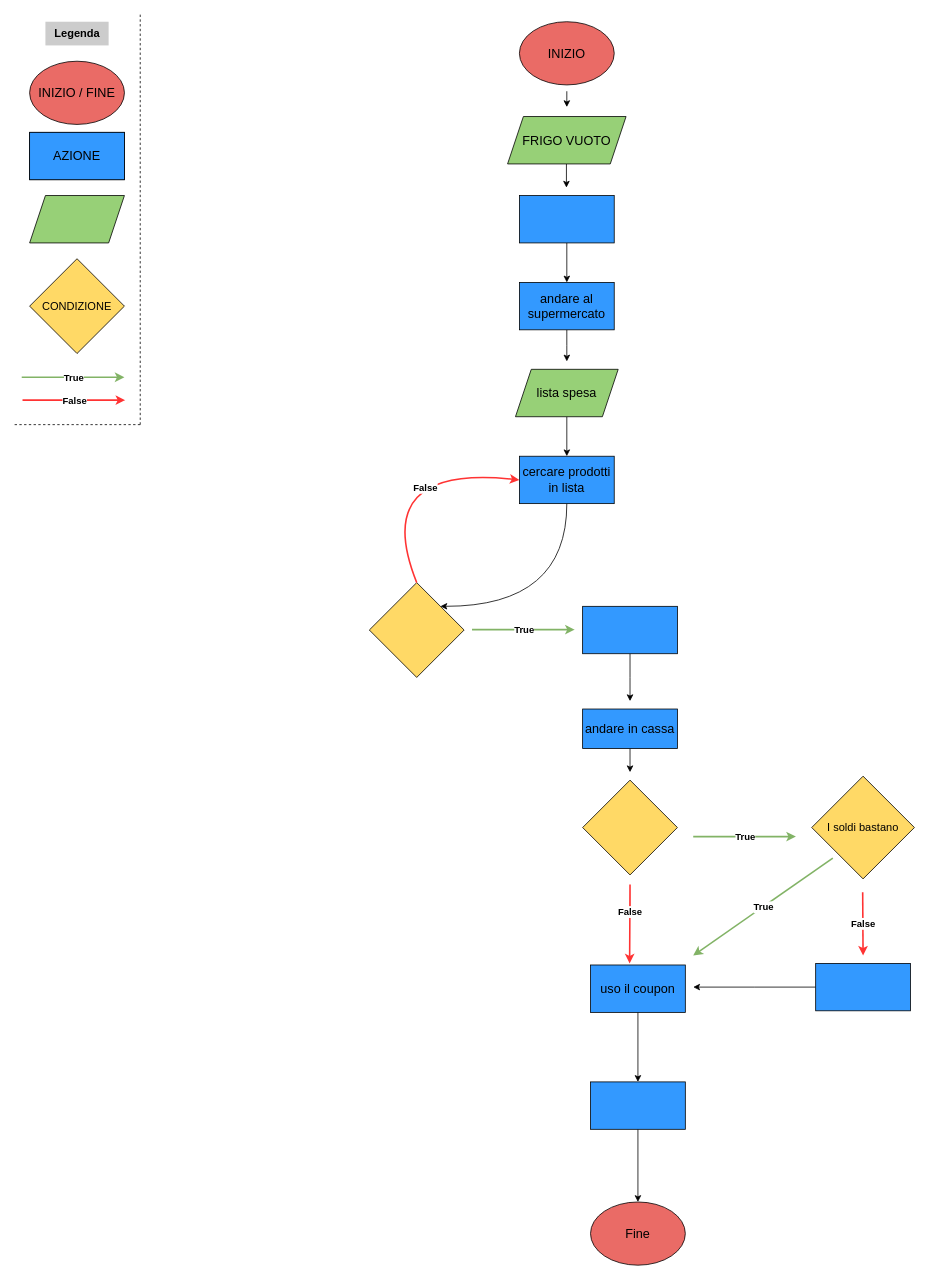
Image size: 928x1279. Some labels were removed from this diagram. Here are the shapes that lost their labels. From the top down, the centre of each, then its label:
point (76, 219): DATI
point (566, 219): scrivere lista spesa
point (416, 629): Verifico di aver preso i prodotti in lista
point (629, 630): Prendiamo le crocchette per il cane
point (629, 827): ho preso gli snack
point (862, 987): poso gli snack
point (637, 1105): Pago
